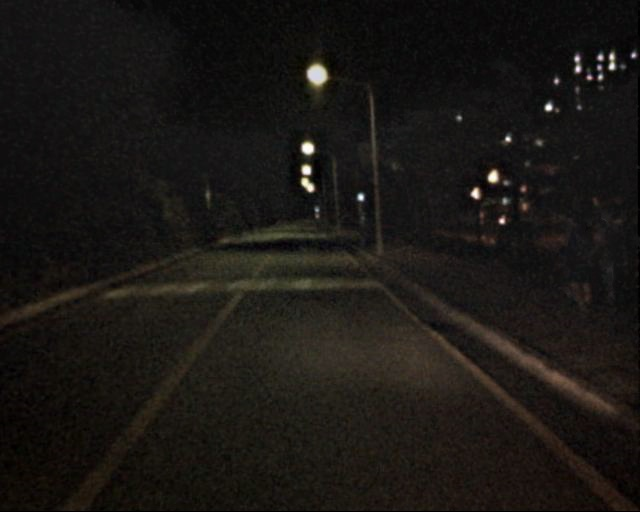person: (587, 207, 632, 318), (555, 213, 595, 311)
